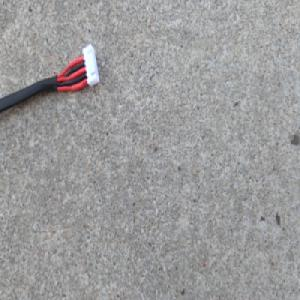Wire: (0, 42, 102, 119)
